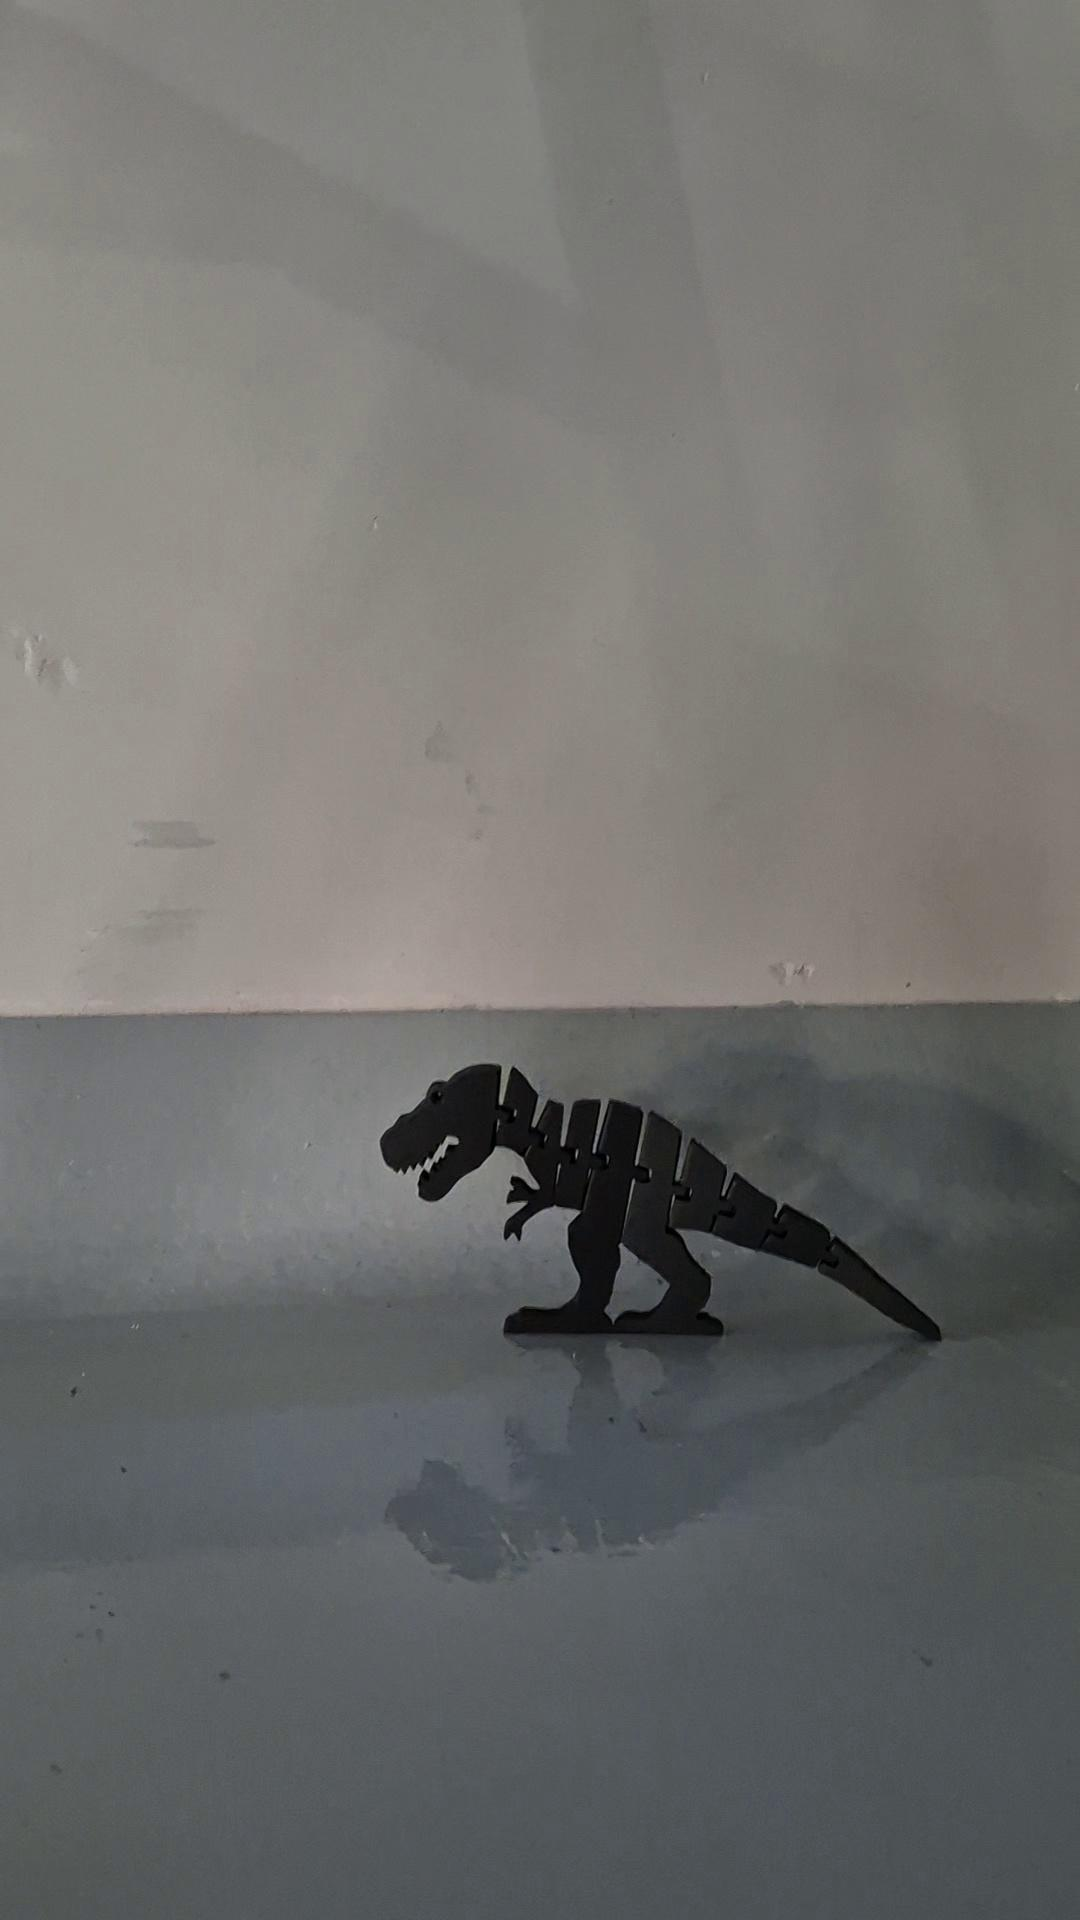dinosaur: (377, 1061, 944, 1347)
